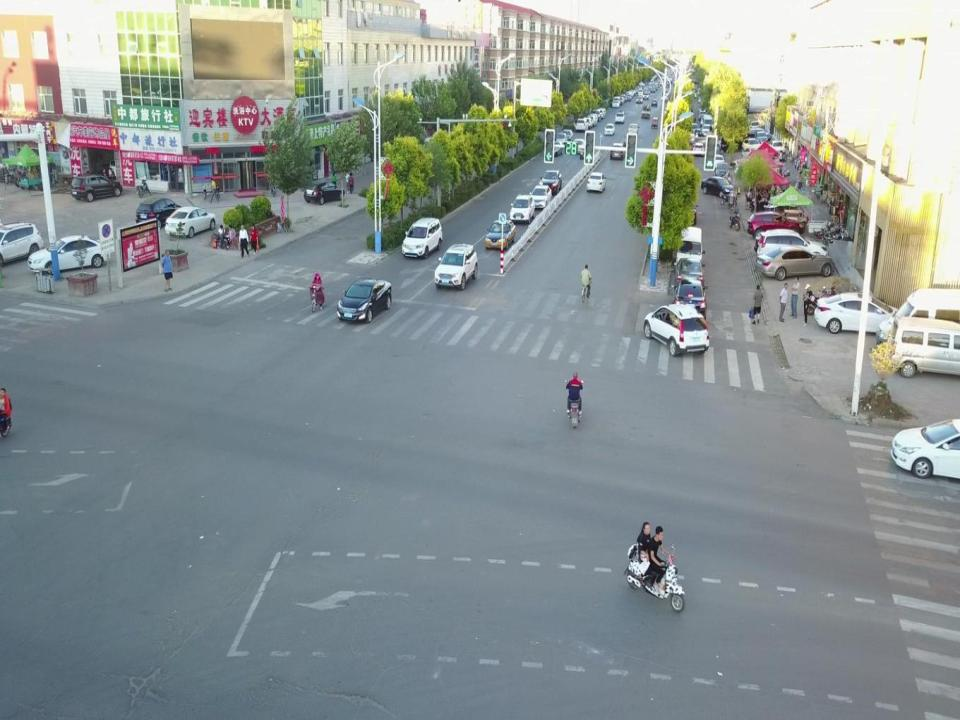car: (891, 417, 960, 482), (644, 303, 708, 359), (815, 293, 900, 335), (28, 234, 110, 275), (755, 243, 834, 281), (757, 229, 828, 267), (335, 277, 392, 323), (434, 242, 477, 289), (0, 222, 44, 266), (134, 197, 185, 230), (402, 216, 442, 258), (165, 205, 215, 238), (754, 231, 819, 256), (746, 211, 803, 238), (672, 279, 707, 322), (71, 174, 122, 202), (674, 257, 705, 291), (303, 179, 344, 204), (483, 220, 516, 250), (509, 194, 535, 224), (701, 176, 733, 200), (538, 169, 562, 194), (675, 200, 699, 223), (530, 184, 552, 209), (586, 172, 606, 192), (742, 138, 763, 154), (746, 128, 771, 141), (610, 142, 625, 161), (548, 139, 563, 157), (769, 140, 785, 156), (715, 162, 730, 179), (208, 177, 218, 202), (740, 147, 759, 160), (711, 154, 725, 170), (572, 138, 586, 154), (573, 118, 588, 132), (560, 129, 574, 143), (755, 131, 767, 145), (692, 142, 704, 156), (556, 132, 567, 147), (687, 122, 700, 134), (585, 114, 597, 127), (749, 121, 760, 134), (623, 134, 634, 146), (628, 124, 639, 136), (615, 110, 625, 123), (701, 125, 711, 137), (604, 122, 614, 134), (582, 117, 592, 129), (591, 110, 600, 122), (594, 109, 603, 121), (598, 107, 606, 119), (662, 90, 670, 101), (614, 96, 620, 107), (651, 98, 658, 105), (642, 92, 649, 99), (636, 95, 642, 103), (612, 101, 618, 108)
truck: (641, 105, 651, 118)
van: (876, 287, 960, 360), (888, 317, 960, 378), (675, 227, 705, 271), (721, 138, 744, 154), (702, 115, 713, 133)
